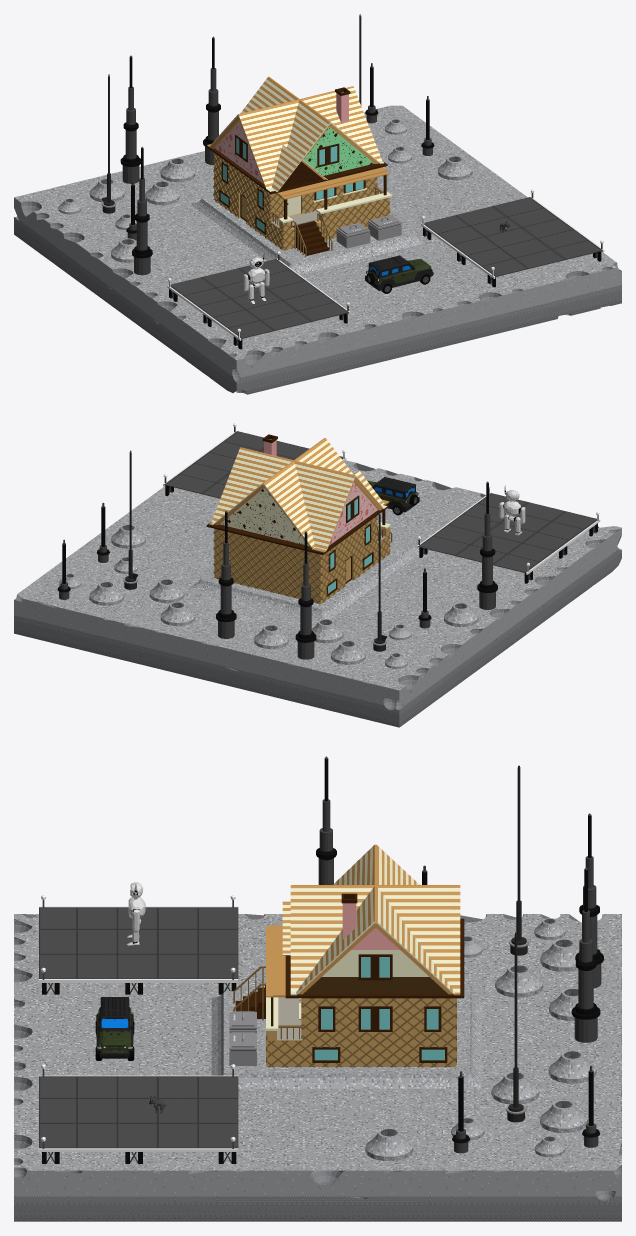
3 renders of one model, top to bottom at view 1: azimuth 30°, elevation 25°; view 2: azimuth 150°, elevation 25°; view 3: azimuth 270°, elevation 25°, orthographic. The views are drawn at different scales.
Visible parts, largest first — view 1: Cube.027, Cube.1102, Cube.026, Cube.025, Cube.028, VEHICLES_JEEP, Cylinder.020, Cylinder.021, Cylinder.017, OBJRANDOM_PLATZEEBOT, Cube.029, Cube.030 (+4 smaller); view 2: Cube.027, Cube.1102, Cube.025, Cube.028, Cube.026, Cylinder.020, Cylinder.021, Cylinder.017, VEHICLES_JEEP, OBJRANDOM_PLATZEEBOT, Cylinder.031, Cylinder.028 (+8 smaller); view 3: Cube.027, Cube.1102, Cube.026, Cube.025, Cube.028, Cylinder.017, VEHICLES_JEEP, Cylinder.020, Cylinder.021, Cylinder.033, Cylinder.031, Cylinder.029 (+10 smaller).
Boxes of the visible parts, <box> form: Cube.027: <box>14,105,621,394</box>; Cube.1102: <box>205,76,392,256</box>; Cube.026: <box>421,189,604,287</box>; Cube.025: <box>167,251,350,349</box>; Cube.028: <box>191,195,424,274</box>; VEHICLES_JEEP: <box>365,255,433,293</box>; Cylinder.020: <box>120,55,140,183</box>; Cylinder.021: <box>132,146,152,275</box>; Cylinder.017: <box>203,36,220,164</box>; OBJRANDOM_PLATZEEBOT: <box>243,252,269,303</box>; Cube.029: <box>336,222,370,248</box>; Cube.030: <box>368,215,401,240</box>; Cube.027: <box>14,460,621,727</box>; Cube.1102: <box>206,434,392,604</box>; Cube.025: <box>417,485,600,583</box>; Cube.028: <box>190,538,419,620</box>; Cube.026: <box>163,423,346,498</box>; Cylinder.020: <box>295,531,316,659</box>; Cylinder.021: <box>477,481,497,609</box>; Cylinder.017: <box>216,510,236,638</box>; VEHICLES_JEEP: <box>367,476,419,515</box>; OBJRANDOM_PLATZEEBOT: <box>499,485,525,535</box>; Cylinder.031: <box>89,581,124,605</box>; Cylinder.028: <box>331,640,365,664</box>; Cube.027: <box>14,914,621,1221</box>; Cube.1102: <box>233,844,464,1067</box>; Cube.026: <box>39,1064,238,1163</box>; Cube.025: <box>39,895,238,994</box>; Cube.028: <box>211,991,481,1088</box>; Cylinder.017: <box>571,867,600,1042</box>; VEHICLES_JEEP: <box>95,997,134,1060</box>; Cylinder.020: <box>575,813,603,988</box>; Cylinder.021: <box>316,756,336,884</box>; Cylinder.033: <box>365,1128,413,1160</box>; Cylinder.031: <box>540,1100,587,1132</box>; Cylinder.029: <box>548,1050,596,1083</box>.
Size of the model in its own units: 4000 by 1799 by 4000.
Materials: 33 (5 with a texture image).
